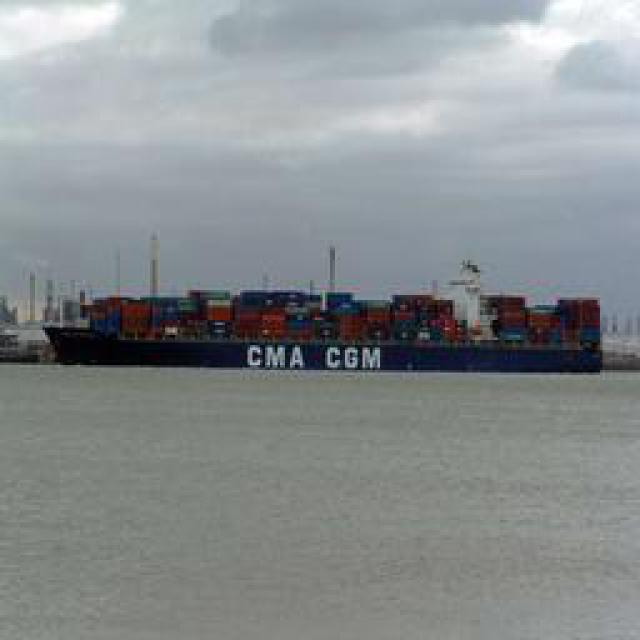Ship: (45, 266, 605, 379)
